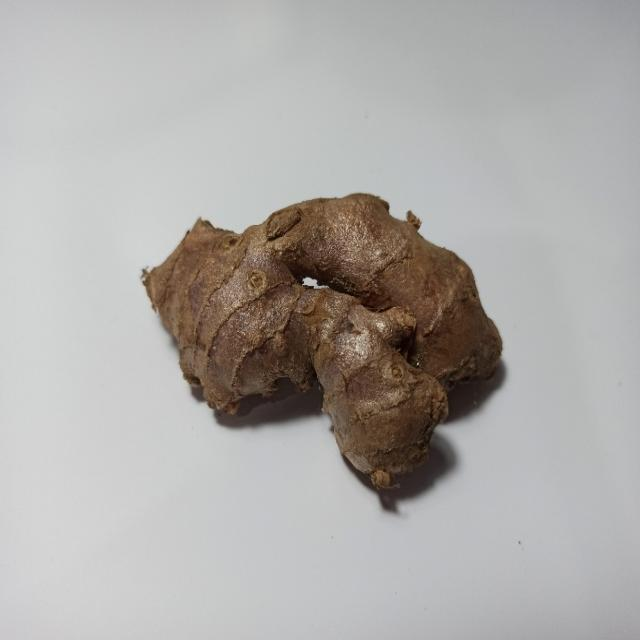ginger: (144, 196, 503, 475)
